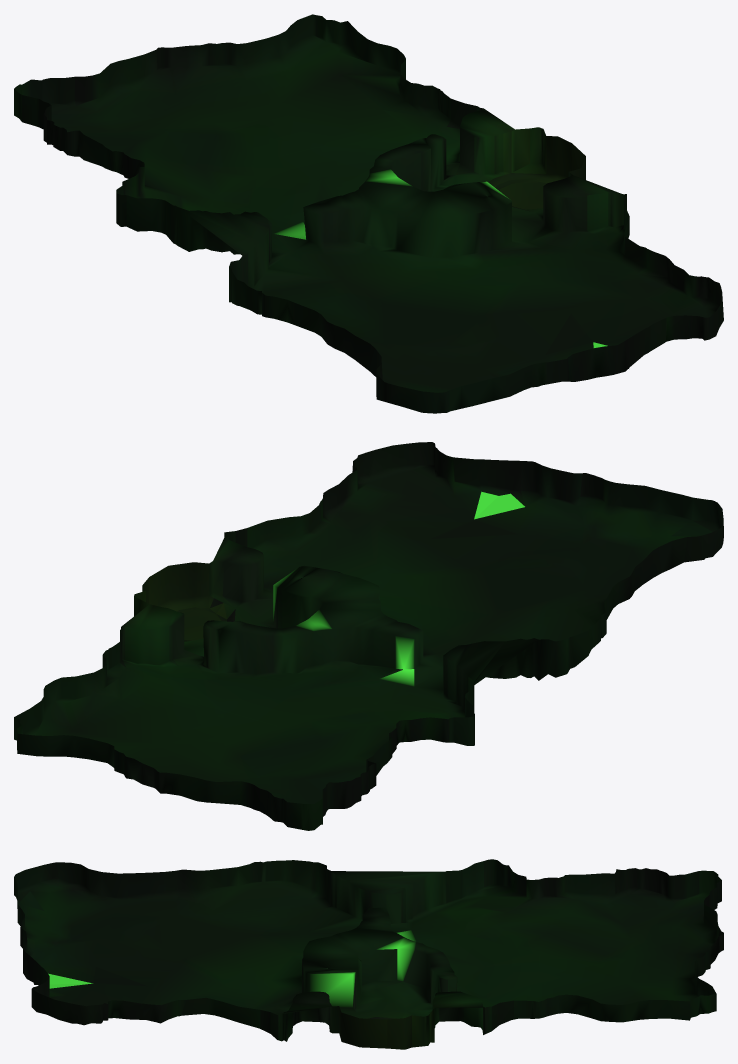
Rendered from level2modifications_elevated.fbx.
3 renders of one model, top to bottom at view 1: azimuth 30°, elevation 25°; view 2: azimuth 150°, elevation 25°; view 3: azimuth 270°, elevation 25°, orthographic. The views are drawn at different scales.
Parts seen in each view (by area): view 1: v9_Collision; view 2: v9_Collision; view 3: v9_Collision.
Part boxes in pixels (x1=…): v9_Collision: x1=14, y1=14, x2=723, y2=413; v9_Collision: x1=14, y1=442, x2=723, y2=830; v9_Collision: x1=14, y1=859, x2=723, y2=1049.
Bounding box in the file's own units: 10061 × 1087 × 18832.
